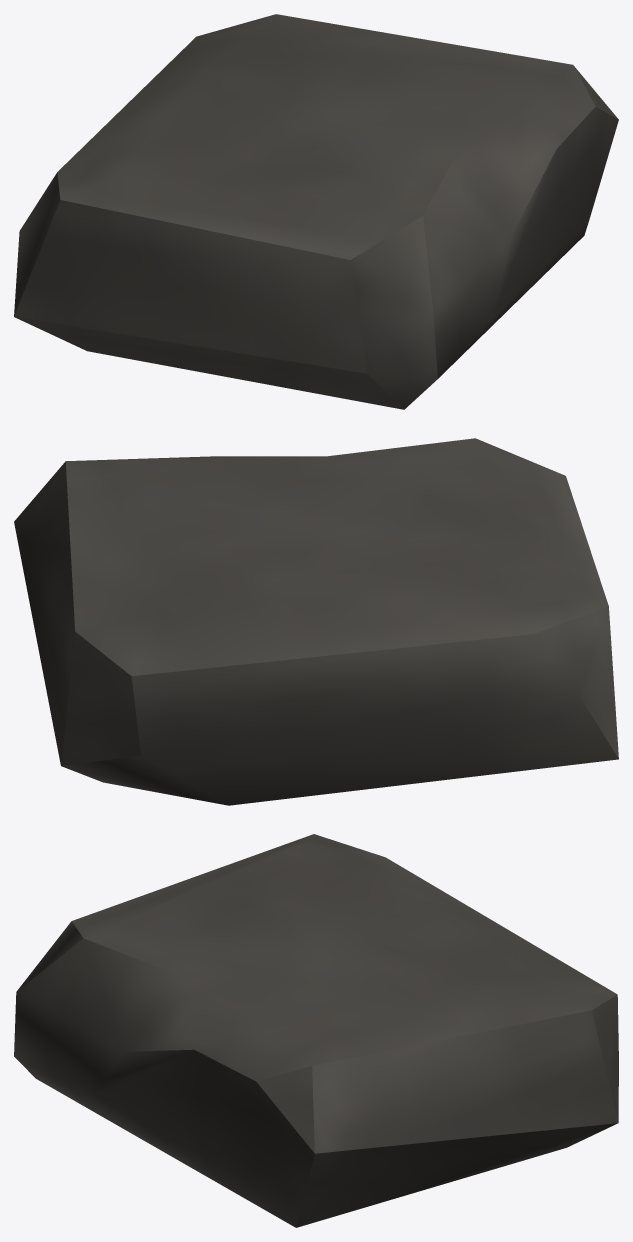
File: Stair_el8.fbx
3 renders of one model, top to bottom at view 1: azimuth 30°, elevation 25°; view 2: azimuth 150°, elevation 25°; view 3: azimuth 270°, elevation 25°, orthographic. The views are drawn at different scales.
Parts seen in each view (by area): view 1: Stair_el8; view 2: Stair_el8; view 3: Stair_el8.
Part boxes in pixels (x1=…): Stair_el8: x1=14, y1=14, x2=618, y2=409; Stair_el8: x1=14, y1=438, x2=618, y2=805; Stair_el8: x1=14, y1=834, x2=618, y2=1227.
Bounding box in the file's own units: 147 × 40.7 × 135.
Materials: 1 (1 with a texture image).
